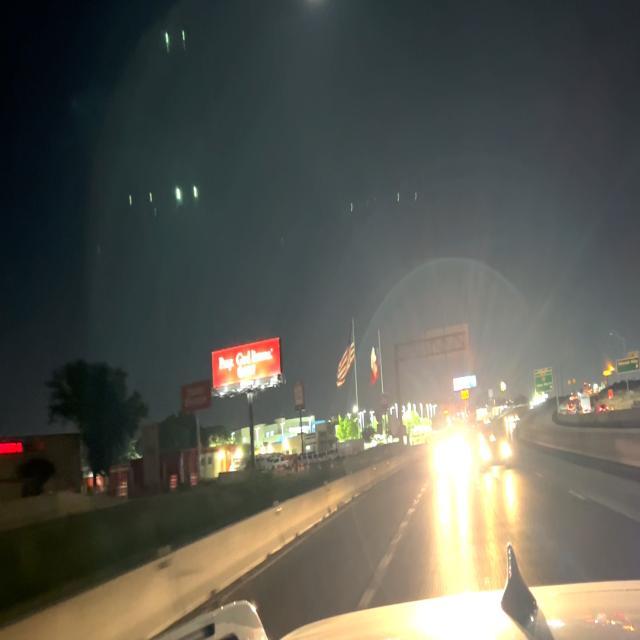back-of-sign: (408, 322, 474, 372)
